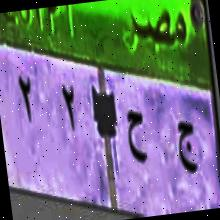2: (13, 62, 37, 126), (58, 81, 82, 136)
7aa: (122, 103, 150, 168)
jeem: (173, 112, 200, 180)
